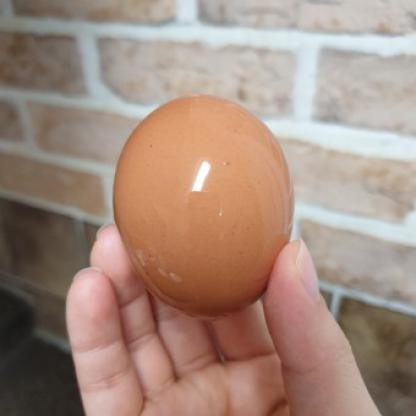egg: (115, 89, 297, 310)
